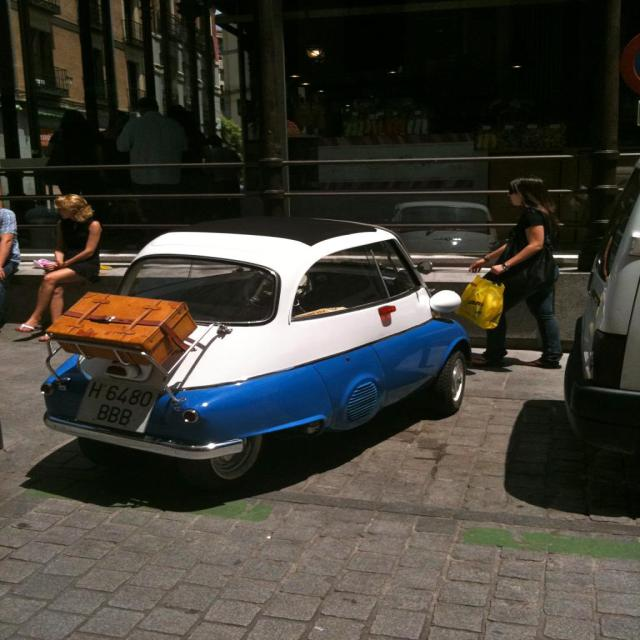car: (8, 220, 460, 488)
